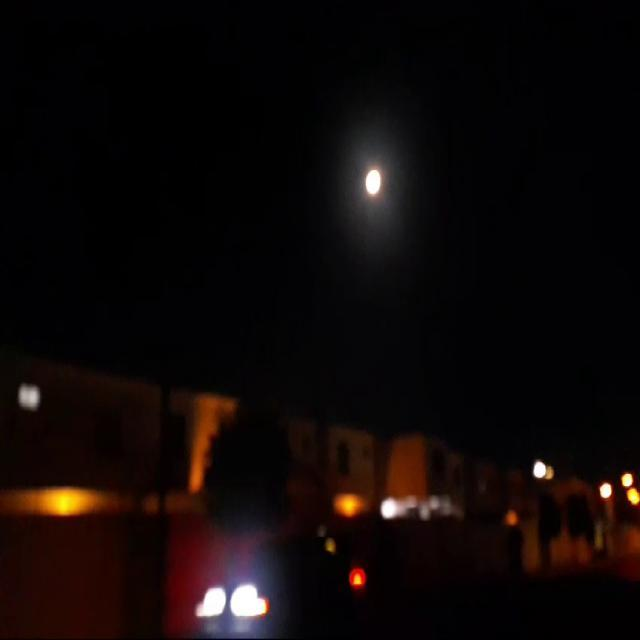moon: (348, 165, 368, 199)
